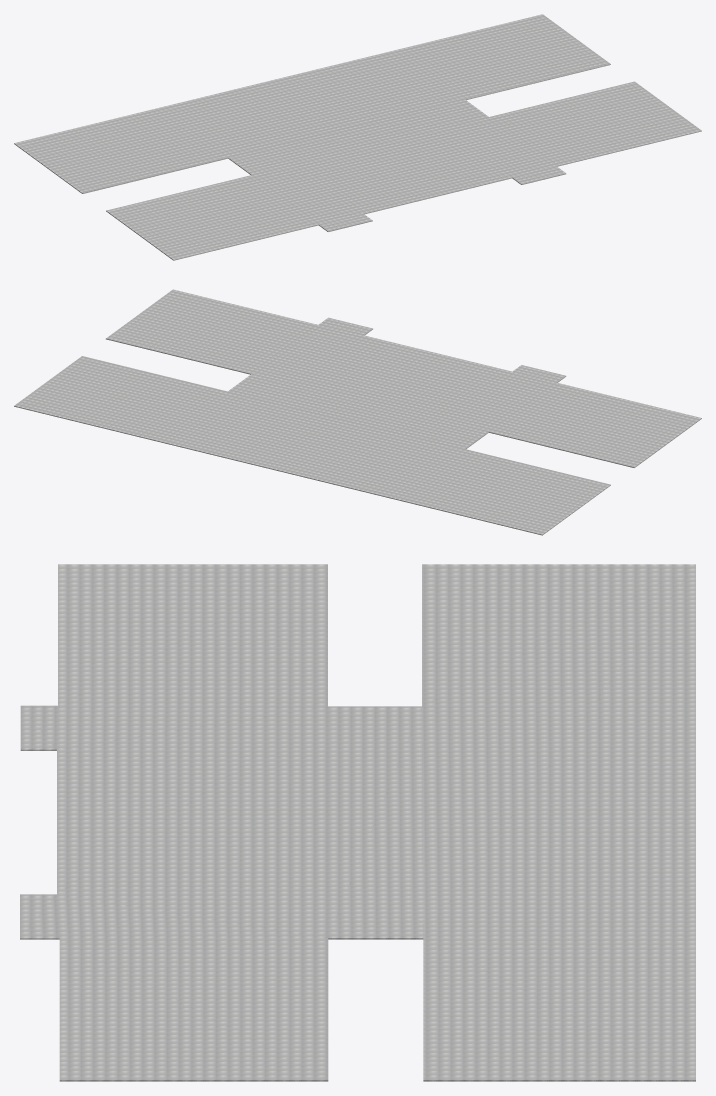
Rendered from floor.dae.
3 renders of one model, top to bottom at view 1: azimuth 30°, elevation 25°; view 2: azimuth 150°, elevation 25°; view 3: azimuth 270°, elevation 25°, orthographic. The views are drawn at different scales.
Visible parts, largest first — view 1: Floor; view 2: Floor; view 3: Floor.
Part boxes in pixels (box(x1,y1,x2,y2)): Floor: box(14, 14, 701, 260); Floor: box(14, 289, 701, 535); Floor: box(20, 564, 695, 1081).
Bounding box in the file's own units: 64.53 × 35.74 × 0.0907.
